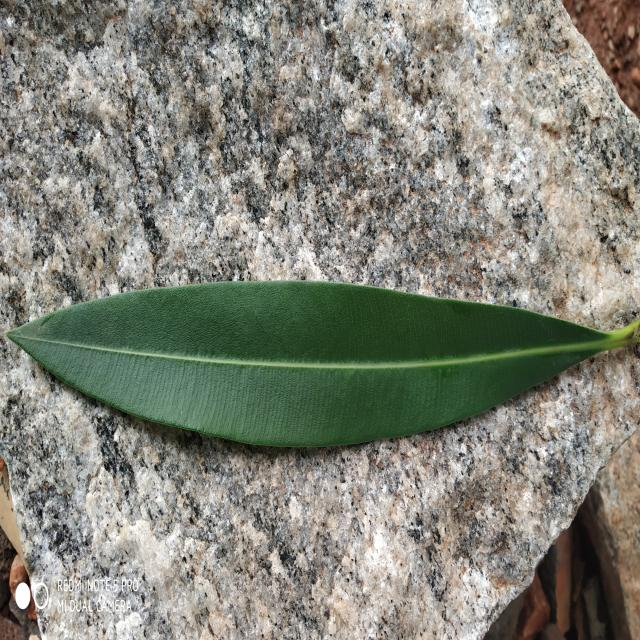ganigale: (8, 282, 640, 447)
